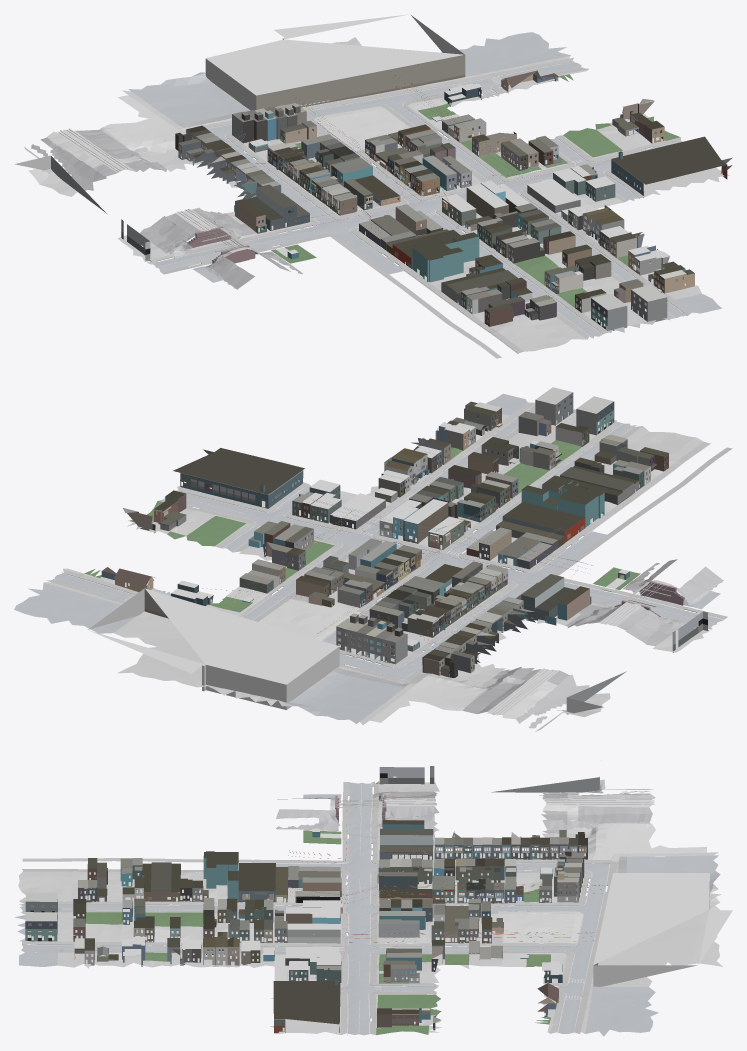
Rendered from witte_ground.glb.
3 views of the same model, one above another, from view 1: azimuth 30°, elevation 25°; view 2: azimuth 150°, elevation 25°; view 3: azimuth 270°, elevation 25° (orthographic). The views are drawn at different scales.
Parts seen in each view (by area): view 1: M_Roof_Focus, M_Asphalt, M_Brick_Focus, M_Roof, M_Lot, M_Sidewalk, M_Wall_BrickPaint, M_Ground, M_Brick_Row, M_Wall_Stucco, M_Grass, M_Wall_Siding (+15 smaller); view 2: M_Roof_Focus, M_Asphalt, M_Brick_Focus, M_Lot, M_Roof, M_Sidewalk, M_Ground, M_Wall_Parge, M_Industrial, M_Grass, M_Wall_Siding, M_Wall_BrickPaint (+13 smaller); view 3: M_Roof_Focus, M_Lot, M_Asphalt, M_Roof, M_Brick_Focus, M_Sidewalk, M_Ground, M_Grass, M_Wall_Siding, M_DirtPacific, M_Concrete, M_Dirt (+13 smaller).
Boxes of the visible parts, box(x1,y1,x2,y2) form: M_Roof_Focus: box(175, 70, 726, 314); M_Asphalt: box(24, 32, 721, 338); M_Brick_Focus: box(179, 87, 732, 330); M_Roof: box(206, 14, 670, 261); M_Lot: box(25, 37, 729, 351); M_Sidewalk: box(147, 57, 691, 358); M_Wall_BrickPaint: box(248, 55, 732, 312); M_Ground: box(31, 109, 302, 289); M_Brick_Row: box(175, 103, 685, 305); M_Wall_Stucco: box(235, 70, 694, 314); M_Grass: box(145, 74, 680, 307); M_Wall_Siding: box(186, 108, 667, 330); M_Roof_Focus: box(102, 387, 668, 669); M_Asphalt: box(14, 393, 723, 731); M_Brick_Focus: box(160, 406, 668, 673); M_Lot: box(44, 410, 709, 731); M_Roof: box(88, 422, 629, 684); M_Sidewalk: box(47, 402, 732, 682); M_Ground: box(333, 559, 723, 728); M_Wall_Parge: box(156, 409, 675, 677); M_Industrial: box(88, 588, 673, 714); M_Grass: box(84, 440, 708, 630); M_Wall_Siding: box(151, 392, 614, 676); M_Wall_BrickPaint: box(144, 431, 649, 651); M_Roof_Focus: box(25, 820, 587, 1024); M_Lot: box(18, 779, 722, 1034); M_Asphalt: box(14, 782, 720, 1036); M_Roof: box(122, 828, 732, 974); M_Brick_Focus: box(25, 831, 587, 1032); M_Sidewalk: box(19, 781, 616, 1034); M_Ground: box(276, 785, 652, 872); M_Grass: box(86, 781, 550, 1034); M_Wall_Siding: box(25, 835, 586, 1016); M_DirtPacific: box(498, 911, 582, 943); M_Concrete: box(109, 823, 706, 980); M_Dirt: box(274, 794, 655, 986).
Size of the model in its own units: 283 by 15.85 by 333.
